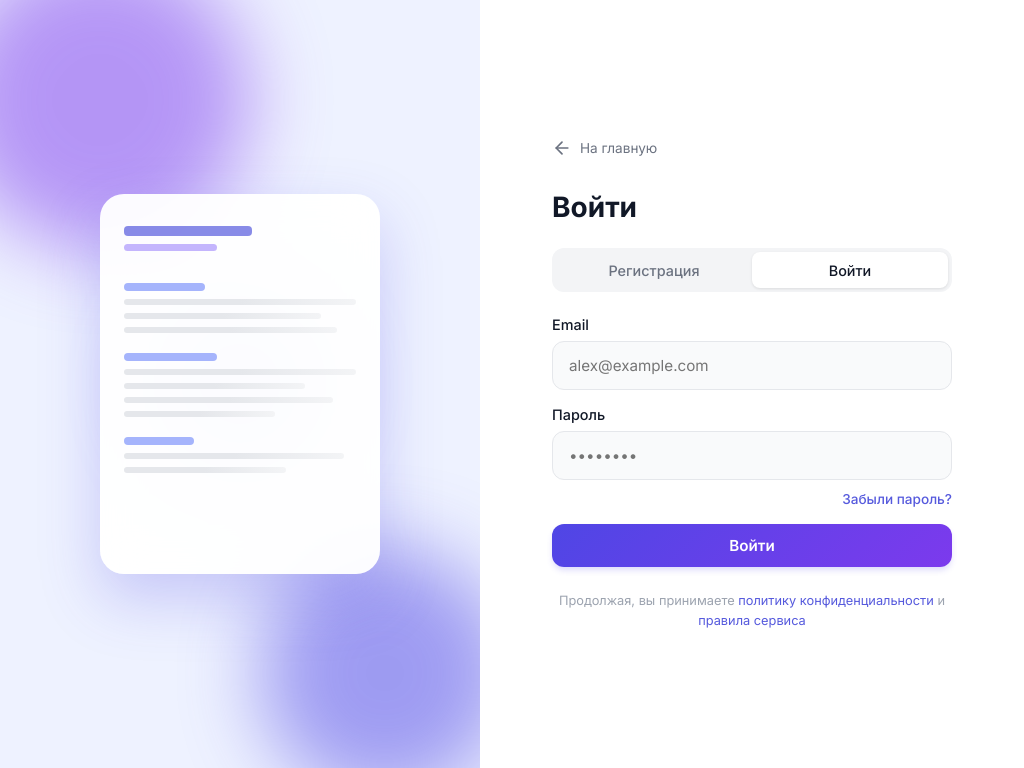
Scenario: AuthPage › shows error message on failed login
Type "test@test.com" into the field with placeholder "alex@example.com" at {"x": 752, "y": 366}, box [552, 341, 952, 390]
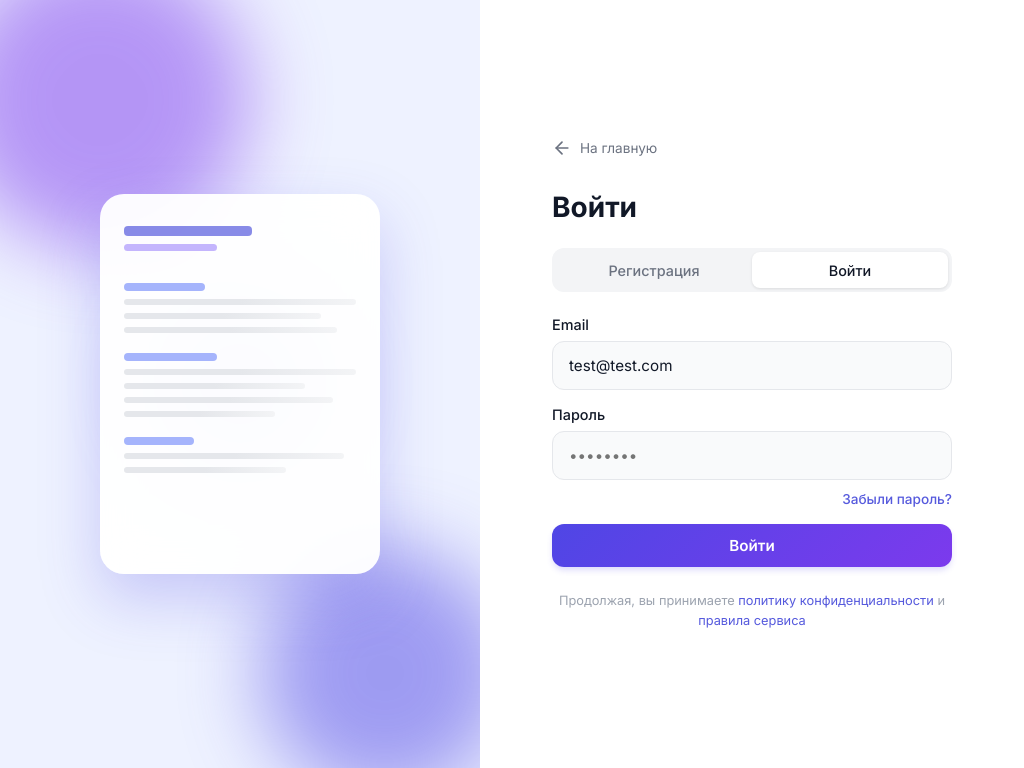
Type "password123" into the password field with placeholder "••••••••" at {"x": 752, "y": 456}, box [552, 431, 952, 480]
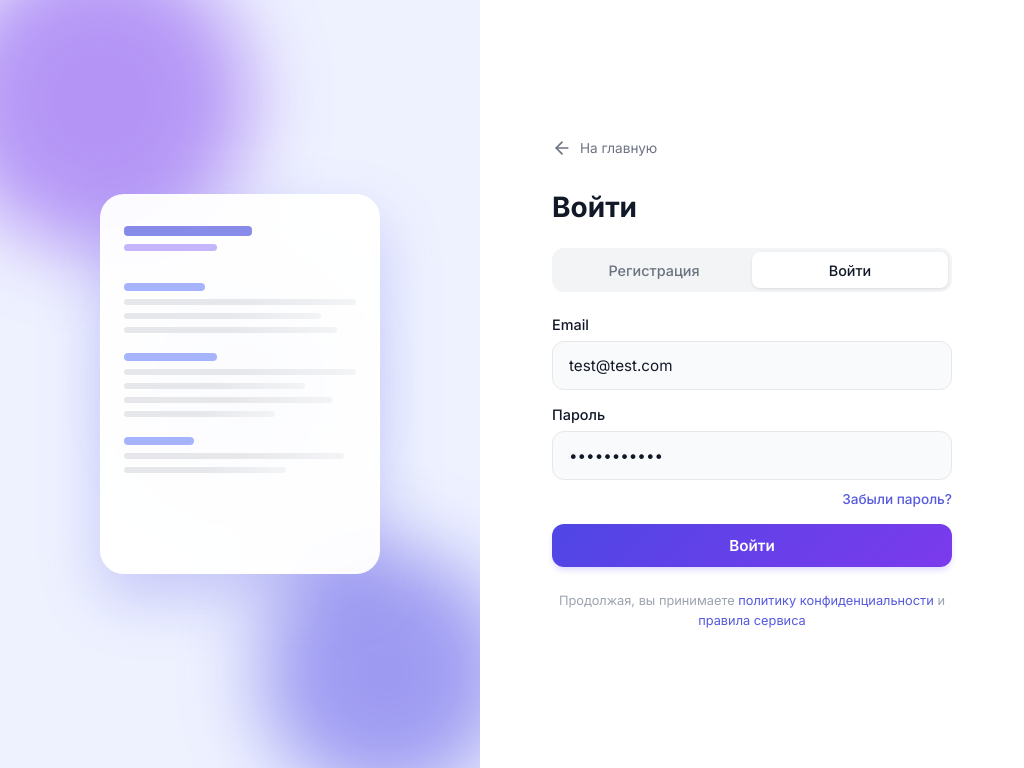
// Click the submit button specifically
Click the button "Войти" at {"x": 752, "y": 546}, box [552, 524, 952, 567]
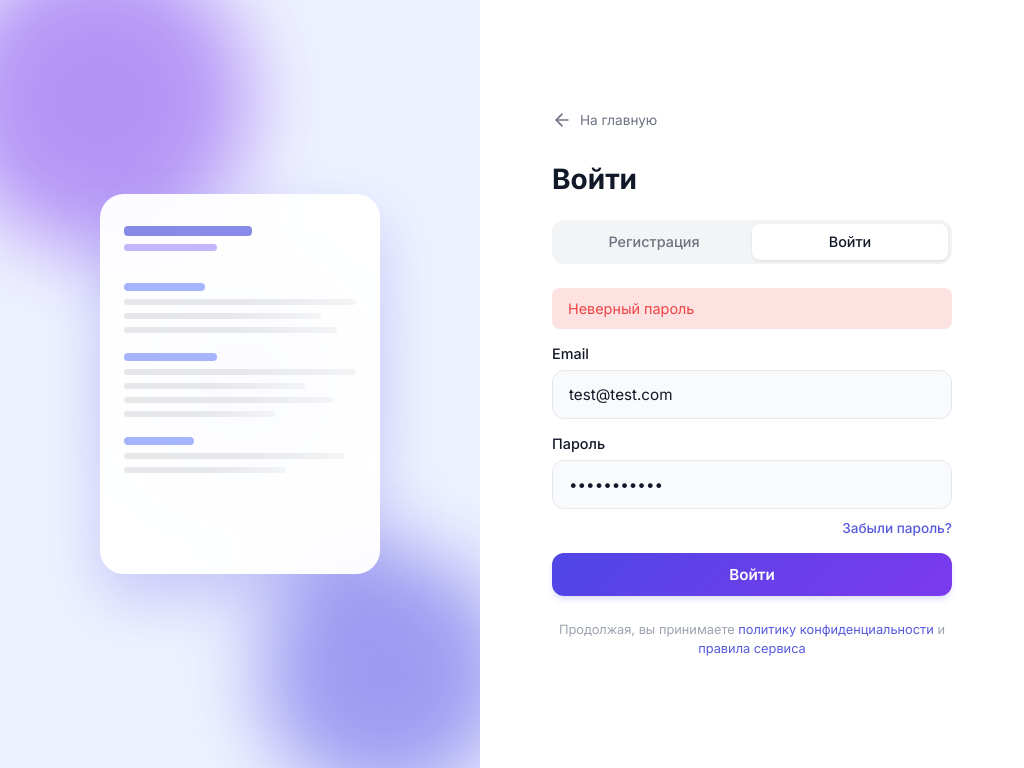
Result: the text "Неверный пароль" is shown at [552, 288, 952, 329]
